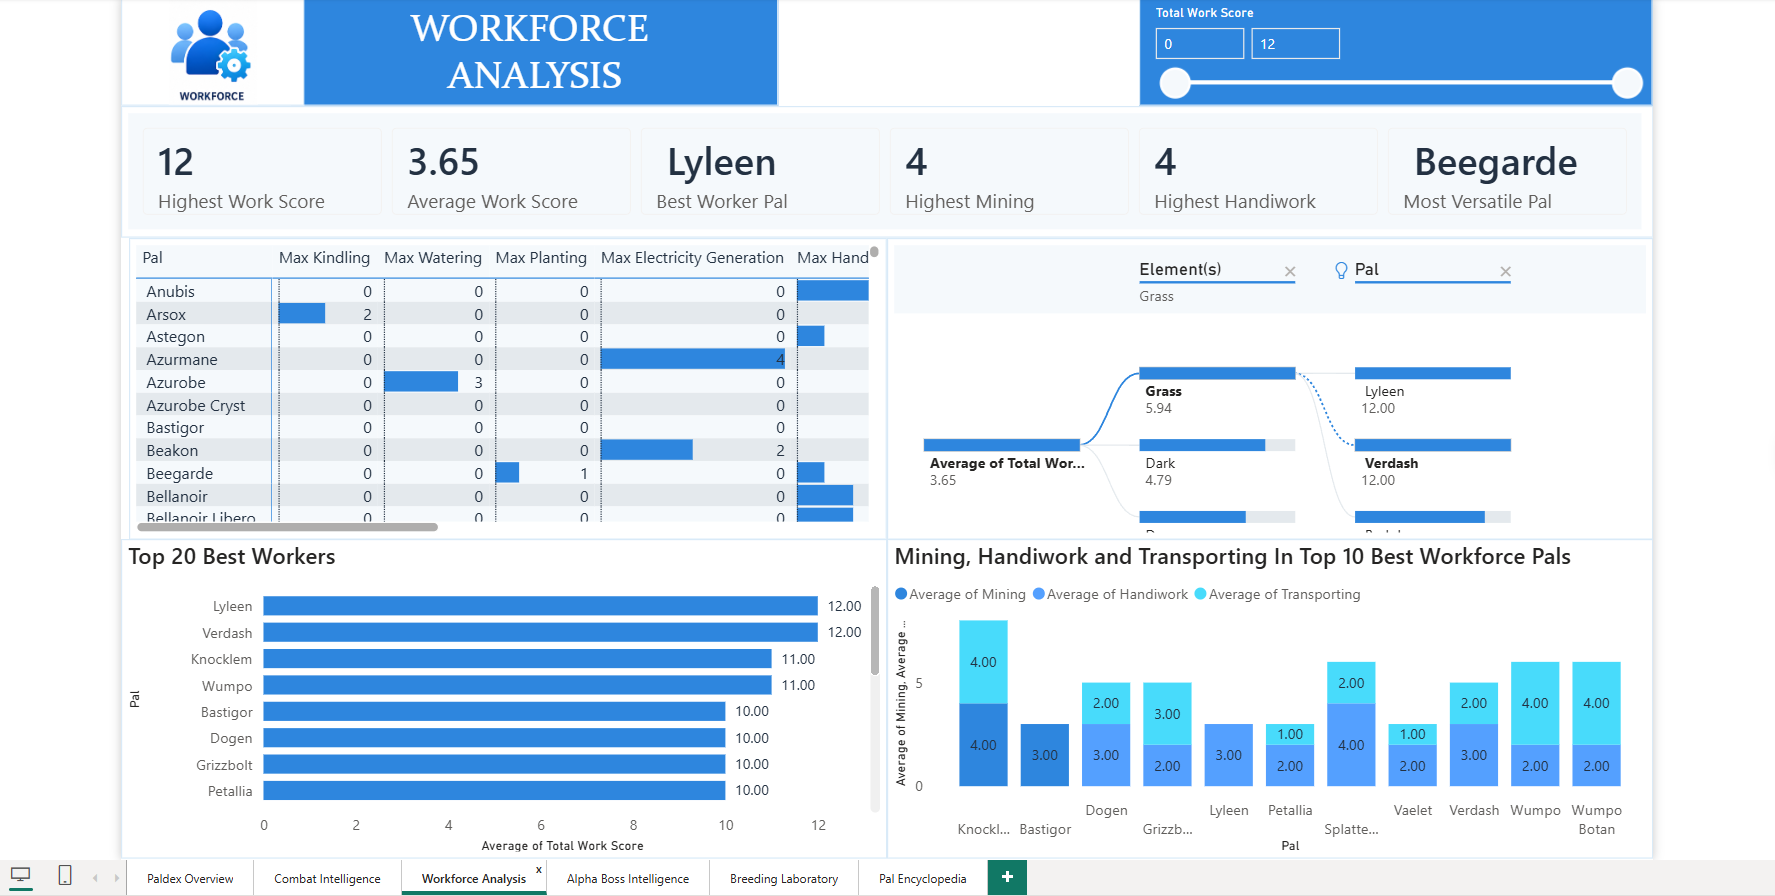

The dashboard page shown, as its layout file describes it:
{"tool":"powerbi","page":{"name":"Workforce Analysis","canvas":[1280,720],"ordinal":2},"visuals":[{"type":"cardVisual","fields":{"Data":["Paldex.Highest Work Score","Paldex.Average Work Score","Paldex.Best Worker Pal","Paldex.Highest Mining","Paldex.Highest Handiwork","Paldex.Most Versatile Pal"]},"box":[0,90.5,1280,109.9],"z":0},{"type":"pivotTable","fields":{"Rows":["Paldex.Pal"],"Values":["Max(Paldex.Kindling)","Max(Paldex.Watering)","Max(Paldex.Planting)","Max(Paldex.Electricity Generation)","Max(Paldex.Handiwork)","Max(Paldex.Gathering)","Max(Paldex.Lumbering)","Max(Paldex.Mining)","Max(Paldex.Medicine Production)","Max(Paldex.Cooling)","Max(Paldex.Transporting)","Max(Paldex.Farming)"]},"box":[6.8,200.4,633.2,251.9],"z":1000},{"type":"clusteredBarChart","title":"Top 20 Best Workers","fields":{"Category":["Paldex.Pal"],"Y":["Avg(Paldex.Total Work Score)"]},"box":[0,452.3,640,267.5],"z":2000},{"type":"decompositionTreeVisual","fields":{"Analyze":["Avg(Paldex.Total Work Score)"],"ExplainBy":["Paldex.Element(s)","Paldex.Pal"]},"box":[640,200.4,640,251.9],"z":3000},{"type":"columnChart","title":"Mining, Handiwork and Transporting In Top 10 Best Workforce Pals","fields":{"Category":["Paldex.Pal"],"Y":["Avg(Paldex.Mining)","Avg(Paldex.Handiwork)","Avg(Paldex.Transporting)"]},"box":[640,452.3,640,267.5],"z":4000},{"type":"textbox","box":[141.9,0,407,90.4],"z":4001},{"type":"slicer","fields":{"Values":["Paldex.Total Work Score"]},"box":[850.7,0,429.3,90.4],"z":4002},{"type":"image","box":[0,0,153.2,90.4],"z":4003}]}

Visuals, with their boxes on the page's 1280x720 design canvas (x1, y1, x2, y2). These are canvas units, not pixel positions in the 1775x896 screenshot, which may show the page scaled, cropped or inside an application window:
cardVisual - Paldex.Highest Work Score x Paldex.Average Work Score: bbox=[0, 90, 1280, 200]
pivotTable - Paldex.Pal x Max(Paldex.Kindling): bbox=[7, 200, 640, 452]
"Top 20 Best Workers" clusteredBarChart: bbox=[0, 452, 640, 720]
decompositionTreeVisual - Avg(Paldex.Total Work Score) x Paldex.Element(s): bbox=[640, 200, 1280, 452]
"Mining, Handiwork and Transporting In Top 10 Best Workforce Pals" columnChart: bbox=[640, 452, 1280, 720]
textbox: bbox=[142, 0, 549, 90]
slicer - Paldex.Total Work Score: bbox=[851, 0, 1280, 90]
image: bbox=[0, 0, 153, 90]
